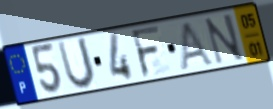4: (107, 30, 134, 84)
5: (29, 41, 64, 98)
A: (179, 19, 217, 70)
F: (129, 24, 163, 80)
N: (202, 12, 246, 67)
U: (55, 35, 98, 92)
